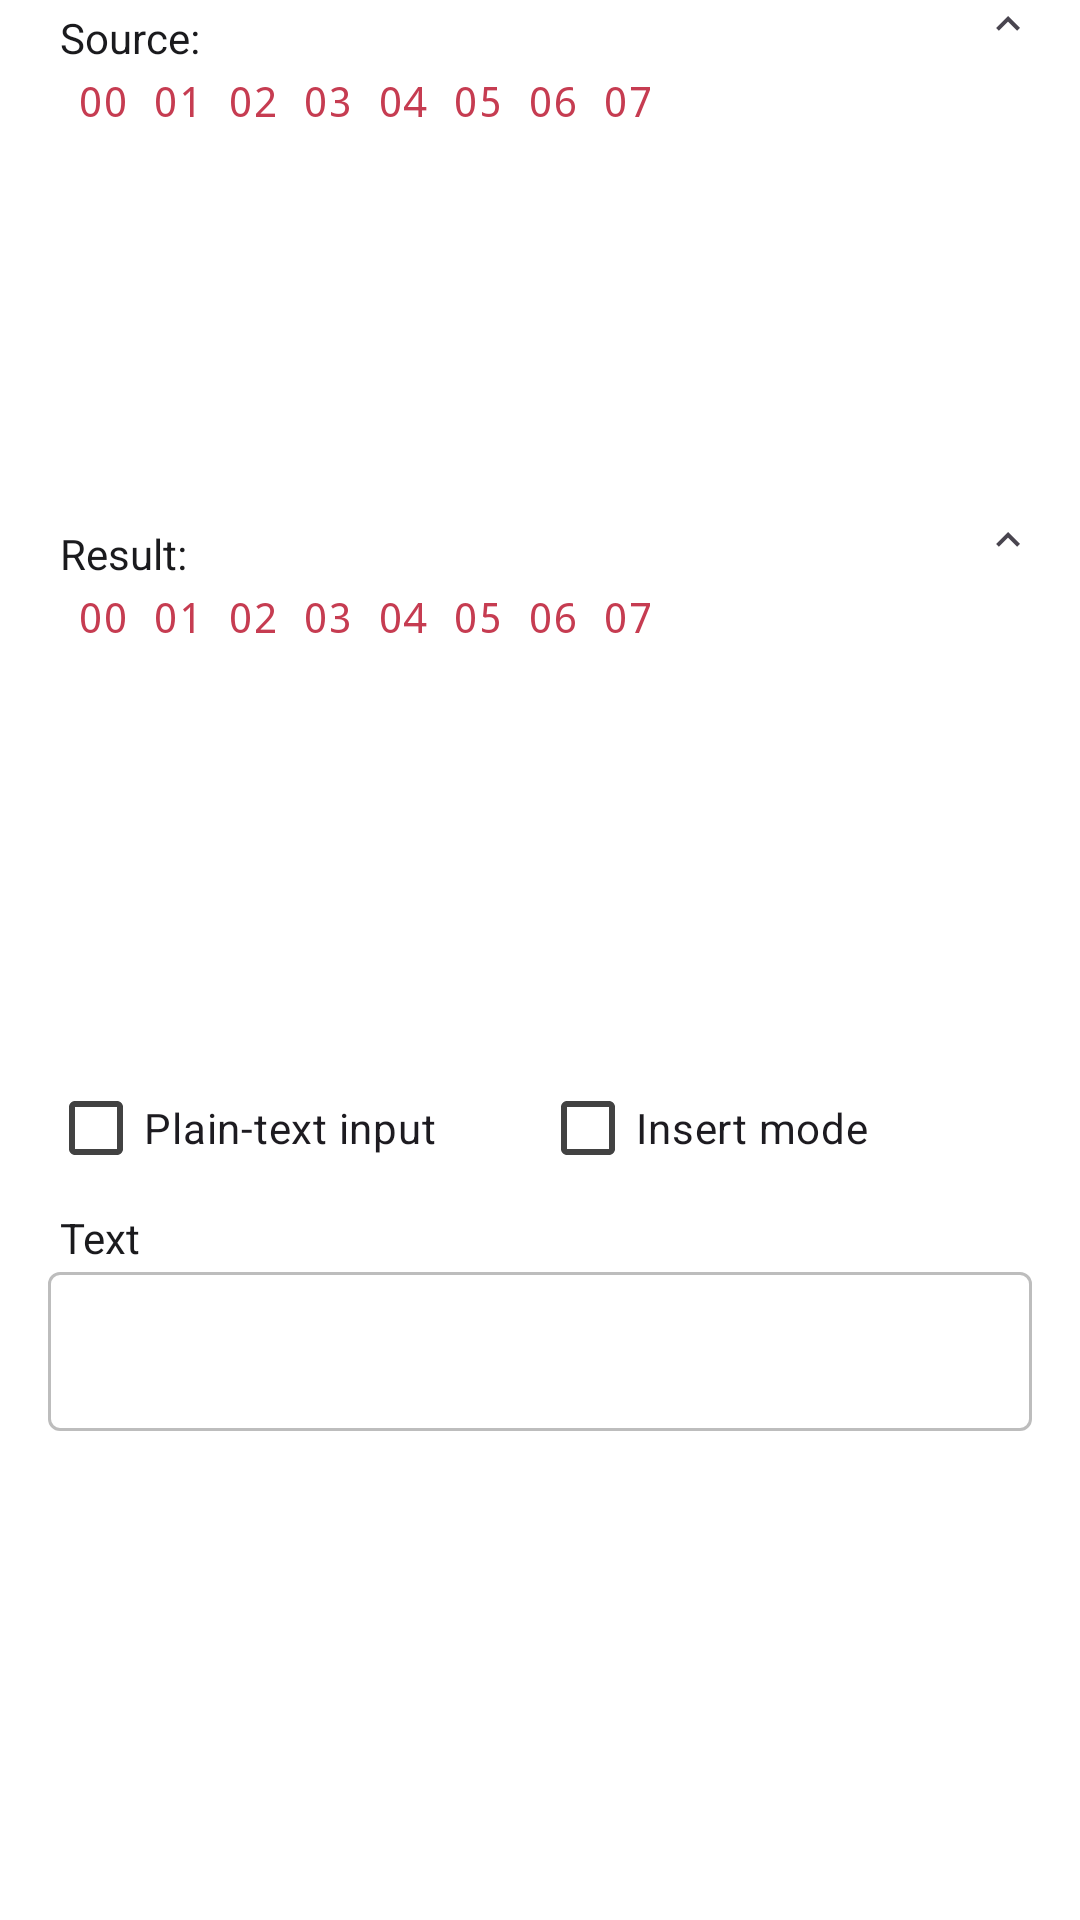

Locate icon controls on the screen. Image size 1080 x 1920, boxes as (x1, y1, x2, y2).
expand less: (996, 16, 1020, 31), (996, 532, 1020, 547)
